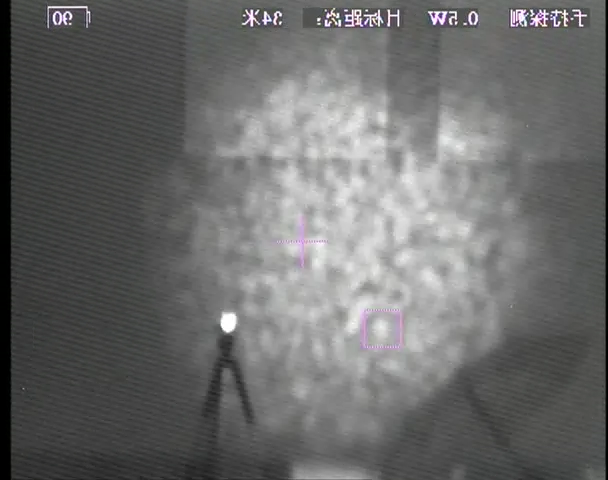my: (218, 311, 239, 334)
